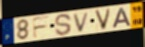8: (16, 19, 31, 42)
A: (111, 7, 133, 29)
F: (31, 15, 51, 40)
S: (54, 13, 73, 37)
V: (93, 7, 113, 31), (73, 11, 91, 33)
